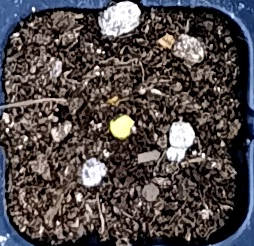pepper seed: (40, 41, 176, 183)
